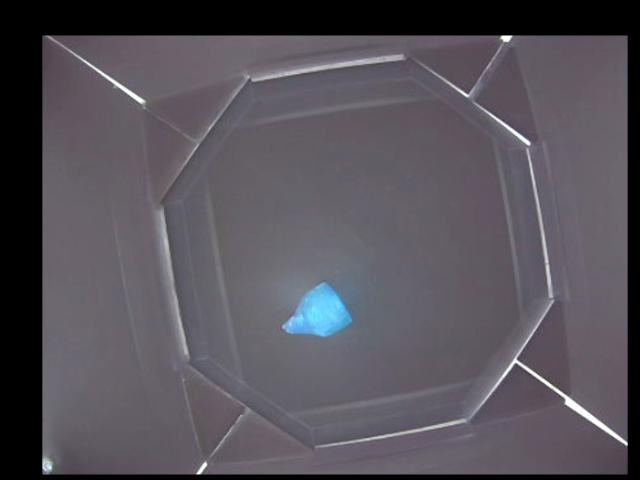Carrot: (280, 281, 350, 335)
